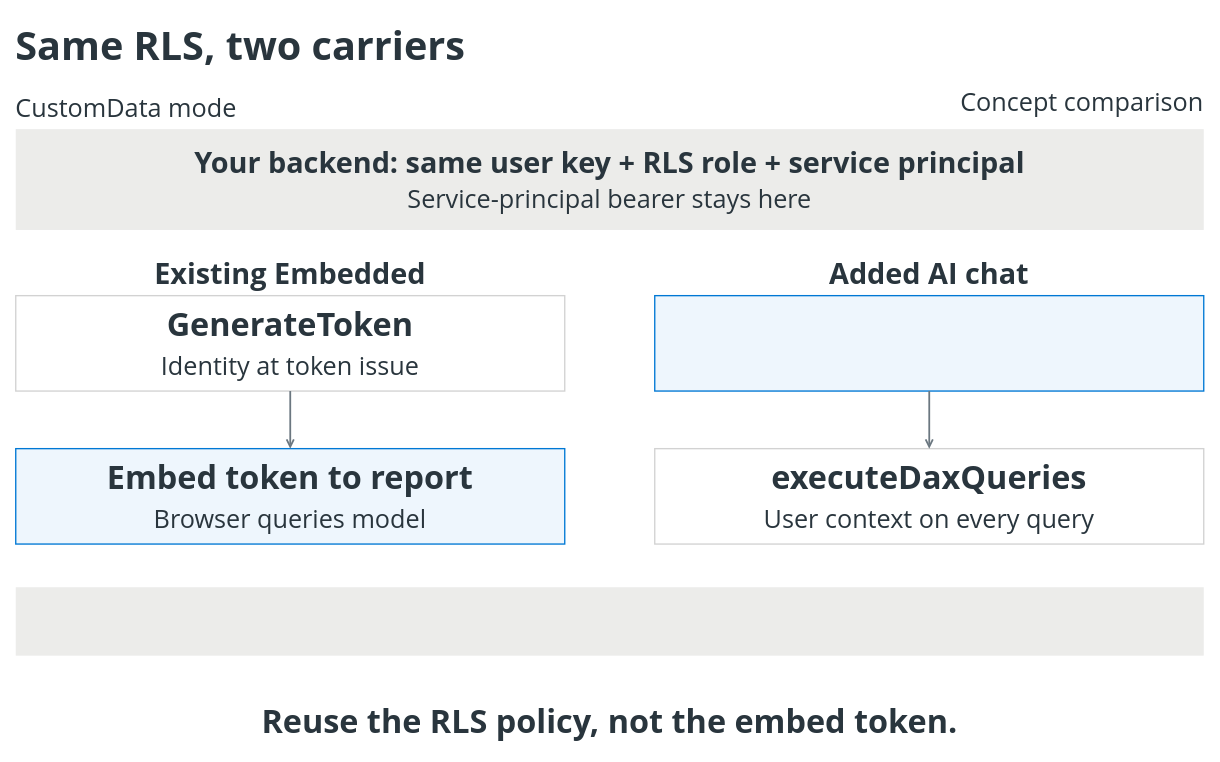
Image size: 1220x762. Some labels were removed from this diagram. The shapes that lost their labels are listed below. From the top down, each one's box as (x1, y1, x2, y2) in pixels, then its label:
(654, 295, 1204, 391): Query with roles + customData
(15, 587, 1203, 655): Same semantic model / CUSTOMDATA() / same grants
